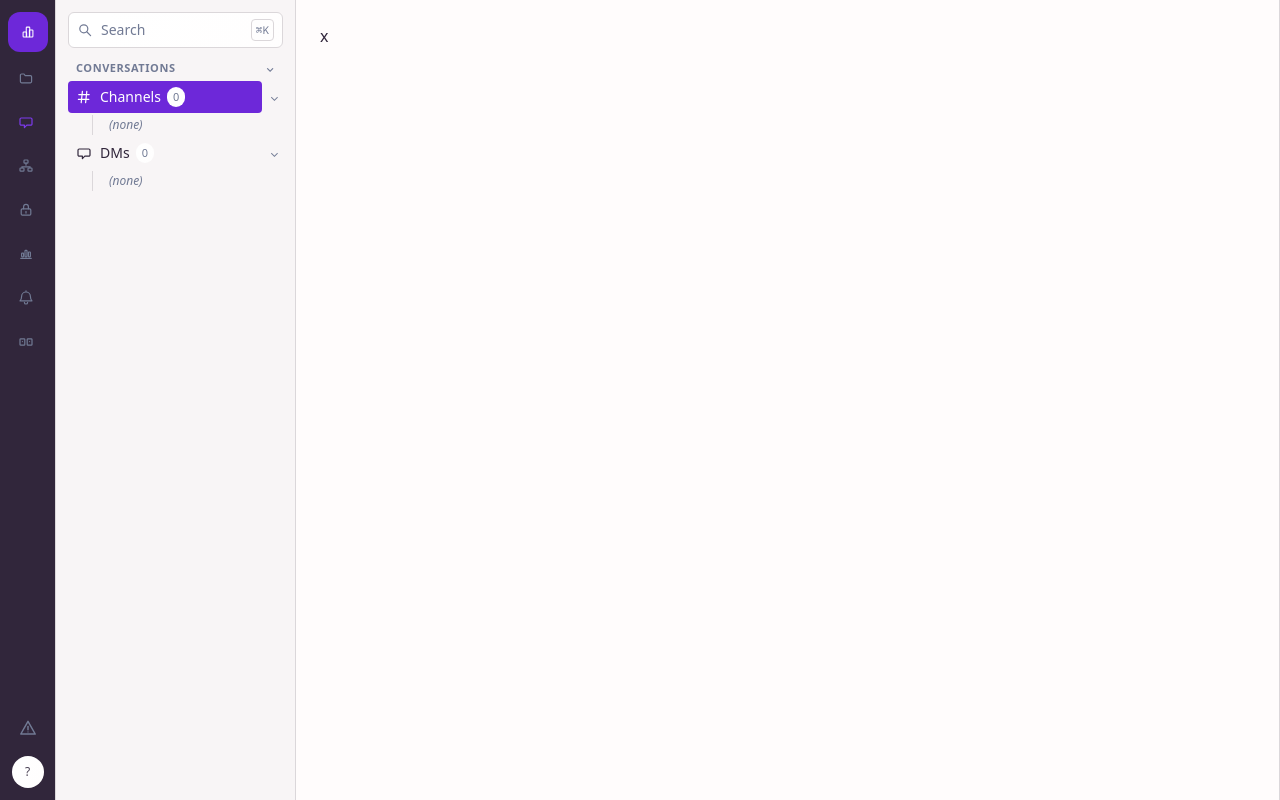
AppLayout v5 shell (v2.10.0 [T1] — three-column module rail) › col② shows ONLY the active module second-level nav and swaps with the rail
Expected: the text with test id "section-label" reads "Conversations", [76,60,176,75]
Expected: the link "projects" is not shown
# Click the Workspace rail icon → col② swaps to the Workspace nav.
Click the link with test id "rail-module-workspace": [26, 78] box [18,70,34,86]
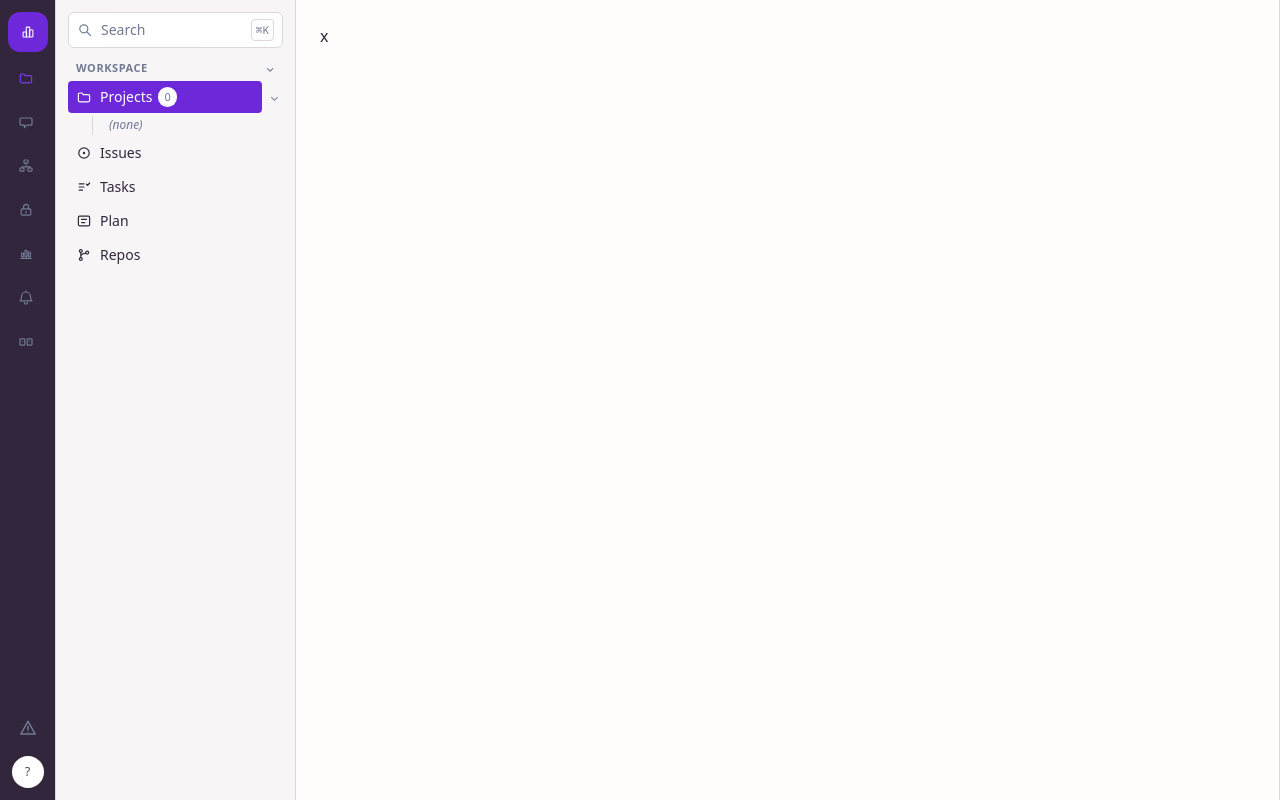
Expected: the text "x" is shown, [320,25,328,47]
Now the text with test id "section-label" reads "Workspace", box [76,60,148,75]
